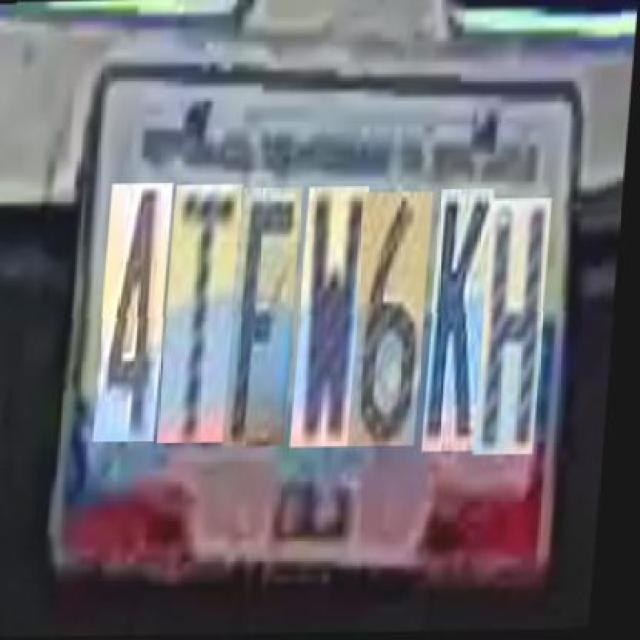4: (100, 183, 178, 443)
6: (354, 192, 438, 448)
f: (229, 188, 308, 448)
h: (480, 199, 557, 456)
k: (429, 190, 500, 453)
t: (165, 184, 248, 444)
w: (298, 187, 374, 448)
